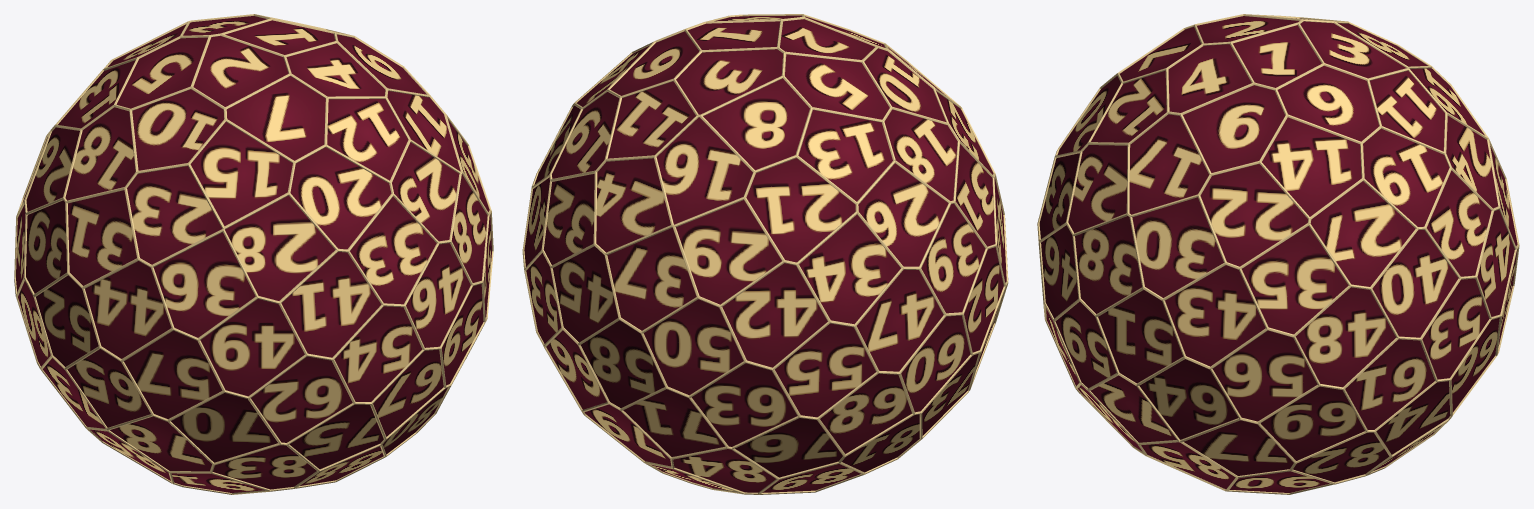
File: ruby_d100.glb
The picture shows the model from 3 angles, left to right: view 1: azimuth 30°, elevation 25°; view 2: azimuth 150°, elevation 25°; view 3: azimuth 270°, elevation 25°; orthographic projection.
Parts seen in each view (by area): view 1: D100_100_Numbered_Faces, D100_Gold_Edge_Rails; view 2: D100_100_Numbered_Faces, D100_Gold_Edge_Rails; view 3: D100_100_Numbered_Faces, D100_Gold_Edge_Rails.
Part boxes in pixels (x1,y1,x2,y2): D100_100_Numbered_Faces: (16, 16, 491, 492); D100_Gold_Edge_Rails: (14, 14, 493, 494); D100_100_Numbered_Faces: (524, 15, 1006, 492); D100_Gold_Edge_Rails: (522, 14, 1008, 494); D100_100_Numbered_Faces: (1039, 16, 1517, 492); D100_Gold_Edge_Rails: (1037, 14, 1519, 494).
Size of the model in its own units: 1.98 by 1.99 by 1.98.
Materials: 2 (1 with a texture image).
